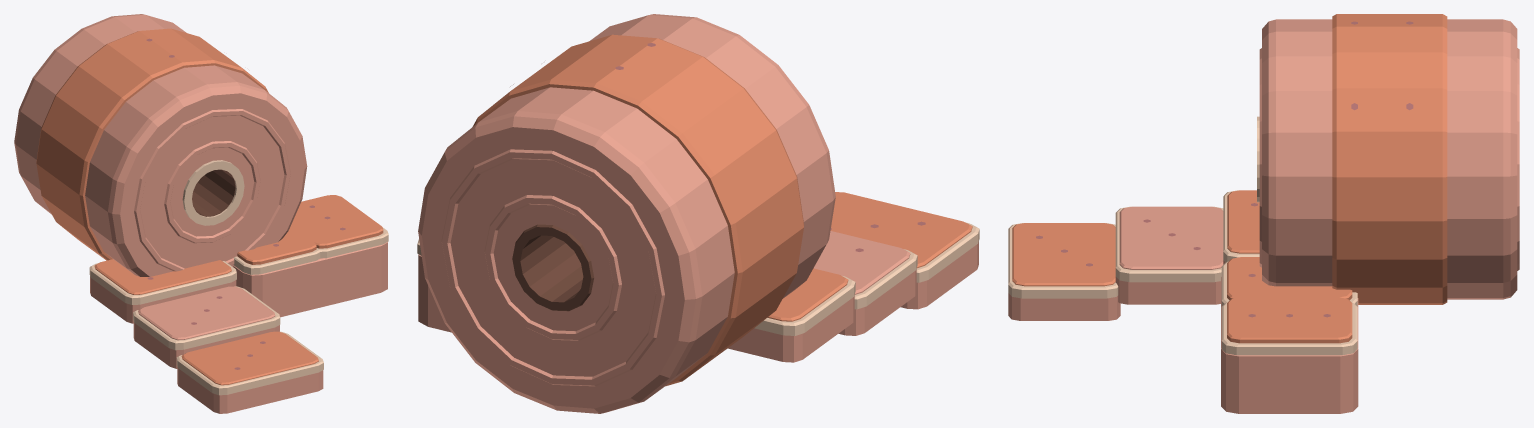
The picture shows the model from 3 angles, left to right: view 1: azimuth 30°, elevation 25°; view 2: azimuth 150°, elevation 25°; view 3: azimuth 270°, elevation 25°; orthographic projection. The views are drawn at different scales.
Visible parts, largest first — view 1: body, static_pal_woodWarm, static_pal_picketWhite, static_pal_uiDark; view 2: body, static_pal_woodWarm, static_pal_uiDark, static_pal_picketWhite; view 3: body, static_pal_woodWarm, static_pal_picketWhite.
Boxes of the visible parts, box(x1,y1,x2,y2) form: body: box(14, 14, 387, 413); static_pal_woodWarm: box(36, 28, 383, 385); static_pal_picketWhite: box(89, 160, 388, 395); static_pal_uiDark: box(192, 169, 235, 216); body: box(418, 14, 978, 413); static_pal_woodWarm: box(472, 34, 972, 386); static_pal_uiDark: box(512, 224, 594, 311); static_pal_picketWhite: box(417, 222, 979, 335); body: box(1008, 19, 1519, 413); static_pal_woodWarm: box(1012, 14, 1447, 343); static_pal_picketWhite: box(1008, 116, 1357, 355).
Size of the model in its own units: 0.763 by 0.6391 by 1.02.
